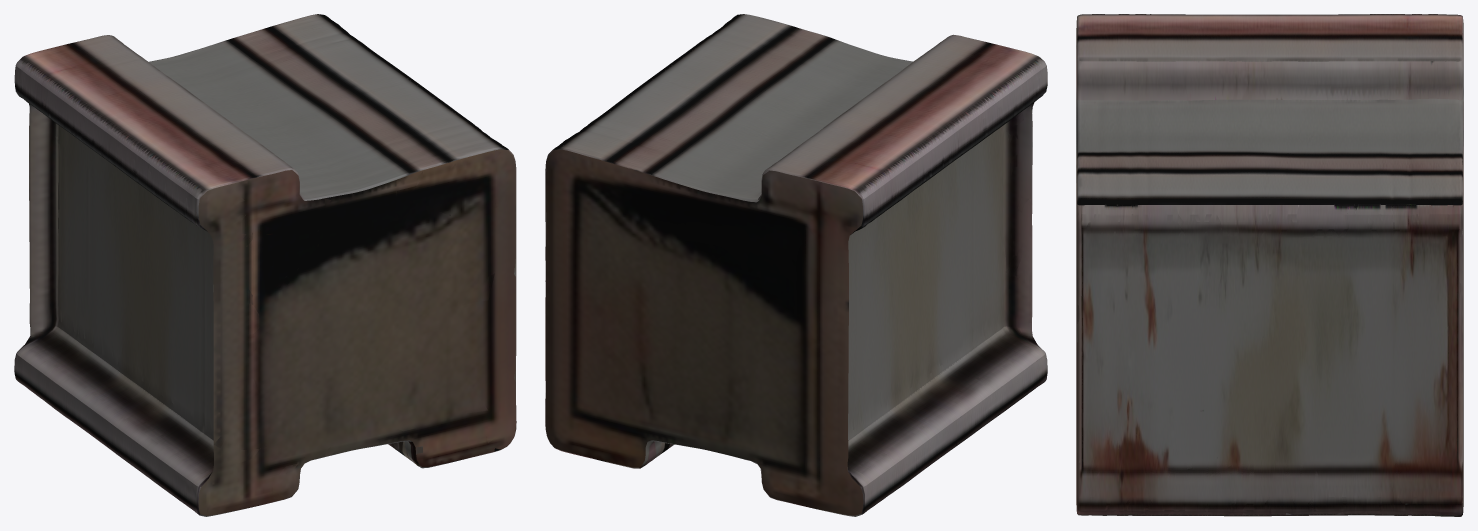
Rendered from beam-steel.glb.
The picture shows the model from 3 angles, left to right: view 1: azimuth 30°, elevation 25°; view 2: azimuth 150°, elevation 25°; view 3: azimuth 270°, elevation 25°; orthographic projection. The views are drawn at different scales.
Visible parts, largest first — view 1: tmpamg_jntl.ply; view 2: tmpamg_jntl.ply; view 3: tmpamg_jntl.ply.
Boxes of the visible parts, box(x1,y1,x2,y2) form: tmpamg_jntl.ply: box(14, 14, 516, 516); tmpamg_jntl.ply: box(545, 14, 1047, 516); tmpamg_jntl.ply: box(1076, 14, 1463, 516).
Bounding box in the file's own units: 1 × 1 × 1.
Materials: 1 (1 with a texture image).
